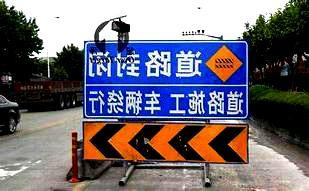sign: (81, 39, 249, 167)
